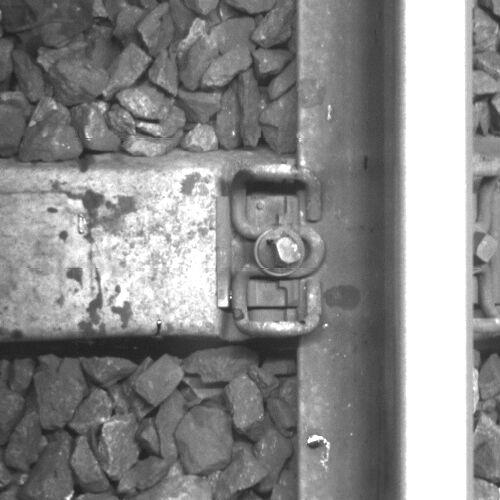rail: (398, 1, 472, 500)
tie_concr: (1, 166, 295, 330)
vossloh: (217, 165, 325, 336)
